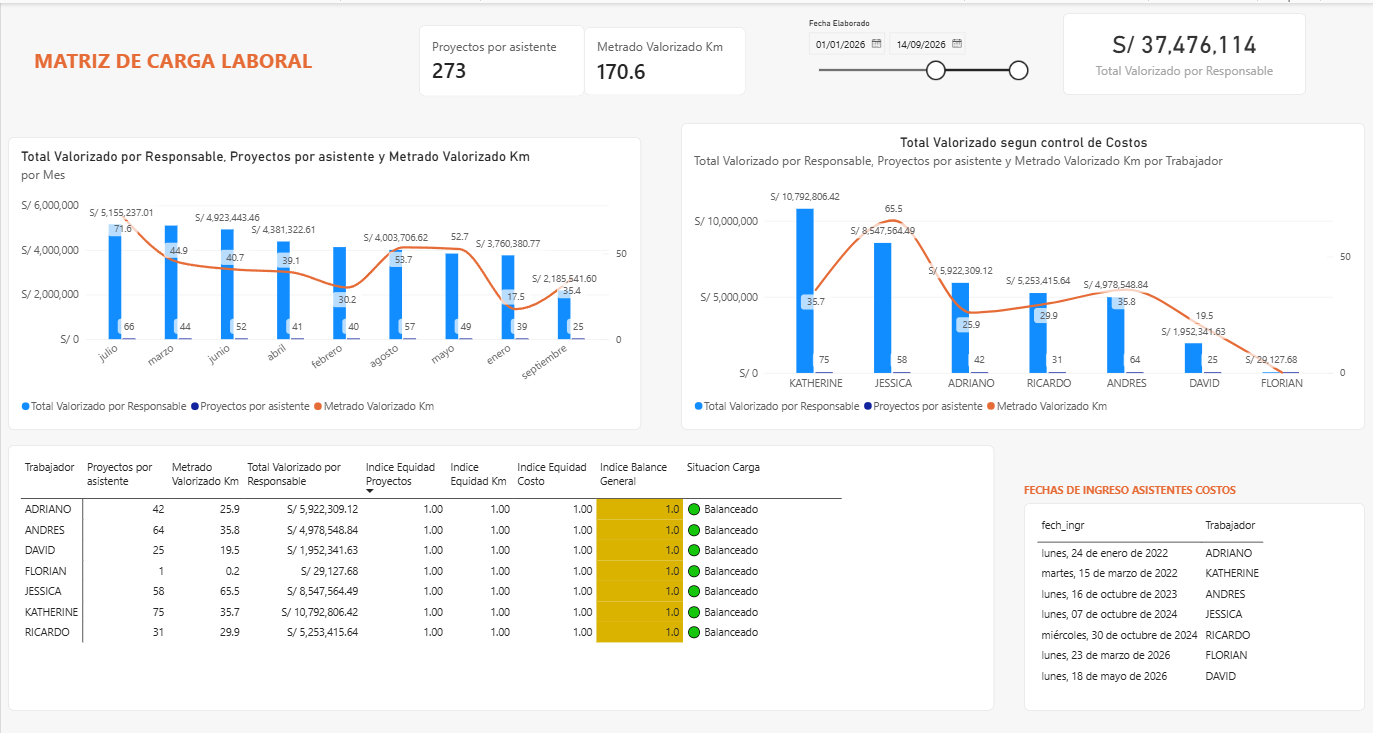

This screenshot's page, from the dashboard's own definition file:
{"tool":"powerbi","page":{"name":"Matriz de carga Laboral","canvas":[1920,1080],"ordinal":0},"visuals":[{"type":"pivotTable","fields":{"Rows":["Asistentes.Trabajador"],"Values":["FactValoporasistente.Proyectos por asistente","Factmetrados.Metrado Valorizado Km","FactValoporasistente.Total Valorizado por Responsable","FactValoporasistente.Indice Equidad Proyectos","FactValoporasistente.Indice Equidad Km","FactValoporasistente.Indice Equidad Costo","FactValoporasistente.Indice Balance General","Factmetrados.Situacion Carga"]},"box":[8.8,582.5,1298.8,350],"z":0},{"type":"cardVisual","fields":{"Data":["FactValoporasistente.Proyectos por asistente"]},"box":[550,28.3,218.9,94.4],"z":1000},{"type":"cardVisual","fields":{"Data":["Factmetrados.Metrado Valorizado Km"]},"box":[768.3,31.7,213.3,90],"z":2000},{"type":"textbox","box":[43.3,56.7,394.4,40],"z":3000},{"type":"lineClusteredColumnComboChart","title":"Total Valorizado segun control de Costos","fields":{"Category":["Asistentes.Trabajador"],"Y":["FactValoporasistente.Total Valorizado por Responsable","FactValoporasistente.Proyectos por asistente"],"Y2":["Factmetrados.Metrado Valorizado Km"]},"box":[896,158.3,901.1,404.2],"z":4000},{"type":"slicer","fields":{"Values":["FactValoporasistente.Fecha Elaborado"]},"box":[1056.2,20,300,95],"z":5000},{"type":"lineClusteredColumnComboChart","fields":{"Category":["DimCalendario.Mes"],"Y":["FactValoporasistente.Total Valorizado por Responsable","FactValoporasistente.Proyectos por asistente"],"Y2":["Factmetrados.Metrado Valorizado Km"]},"box":[8.8,176.2,833.8,386.2],"z":6000},{"type":"tableEx","fields":{"Values":["Asistentes.fech_ingr.Variación.Jerarquía de fechas.Año","Asistentes.Trabajador"]},"box":[1347.5,658.8,448.8,273.8],"z":7000},{"type":"advanceCardE03760C5AB684758B56AA29F9E6C257B","fields":{"mainMeasure":["FactValoporasistente.Total Valorizado por Responsable"]},"box":[1398.8,13.8,320,107.5],"z":8000},{"type":"textbox","box":[1347.5,632.5,300,26.2],"z":8001}]}

Visuals, with their boxes on the page's 1920x1080 design canvas (x1, y1, x2, y2). These are canvas units, not pixel positions in the 1373x733 screenshot, which may show the page scaled, cropped or inside an application window:
pivotTable - Asistentes.Trabajador x FactValoporasistente.Proyectos por asistente: [x1=9, y1=582, x2=1308, y2=932]
cardVisual - FactValoporasistente.Proyectos por asistente: [x1=550, y1=28, x2=769, y2=123]
cardVisual - Factmetrados.Metrado Valorizado Km: [x1=768, y1=32, x2=982, y2=122]
textbox: [x1=43, y1=57, x2=438, y2=97]
"Total Valorizado segun control de Costos" lineClusteredColumnComboChart: [x1=896, y1=158, x2=1797, y2=562]
slicer - FactValoporasistente.Fecha Elaborado: [x1=1056, y1=20, x2=1356, y2=115]
lineClusteredColumnComboChart - DimCalendario.Mes x FactValoporasistente.Total Valorizado por Responsable: [x1=9, y1=176, x2=843, y2=562]
tableEx - Asistentes.fech_ingr.Variación.Jerarquía de fechas.Año x Asistentes.Trabajador: [x1=1348, y1=659, x2=1796, y2=933]
advanceCardE03760C5AB684758B56AA29F9E6C257B - FactValoporasistente.Total Valorizado por Responsable: [x1=1399, y1=14, x2=1719, y2=121]
textbox: [x1=1348, y1=632, x2=1648, y2=659]
